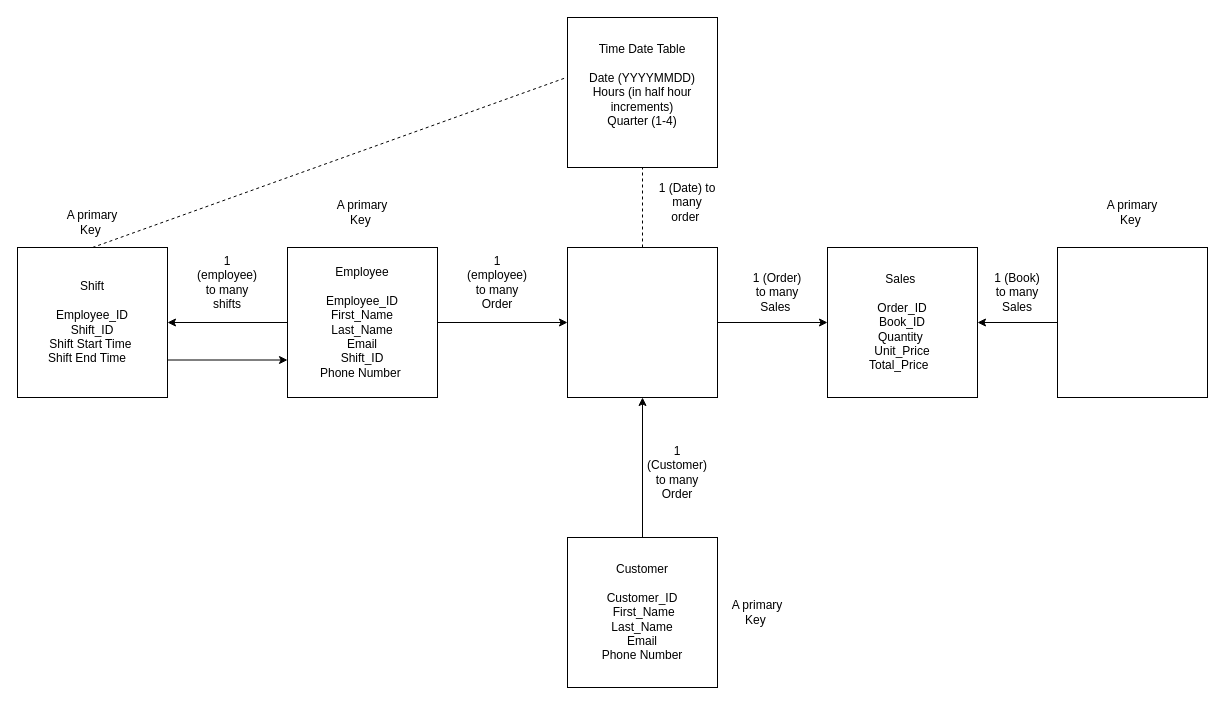
Image size: 1225x705. Some labels were removed from this diagram. Each missing label, with the centre of its shape:
Book Entities Title Book_ID (ISBN) Price Publisher: pixel 1132 322
Order Order_ID Date Customer_ID Employee_ID Amount Status: pixel 642 322
